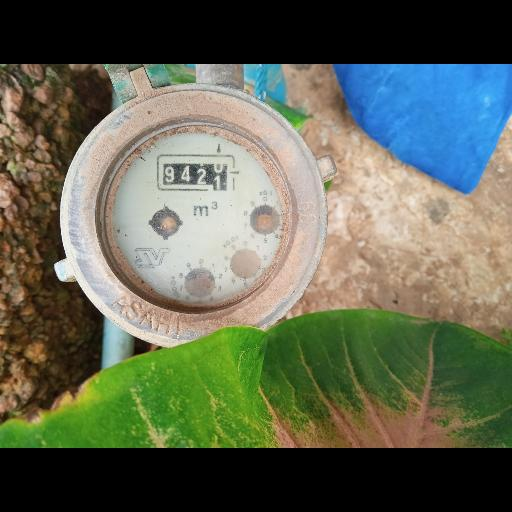0: (213, 164, 227, 191)
2: (195, 163, 213, 185)
4: (179, 164, 195, 185)
9: (163, 164, 179, 185)
border_water_meter_number: (156, 153, 235, 191)
